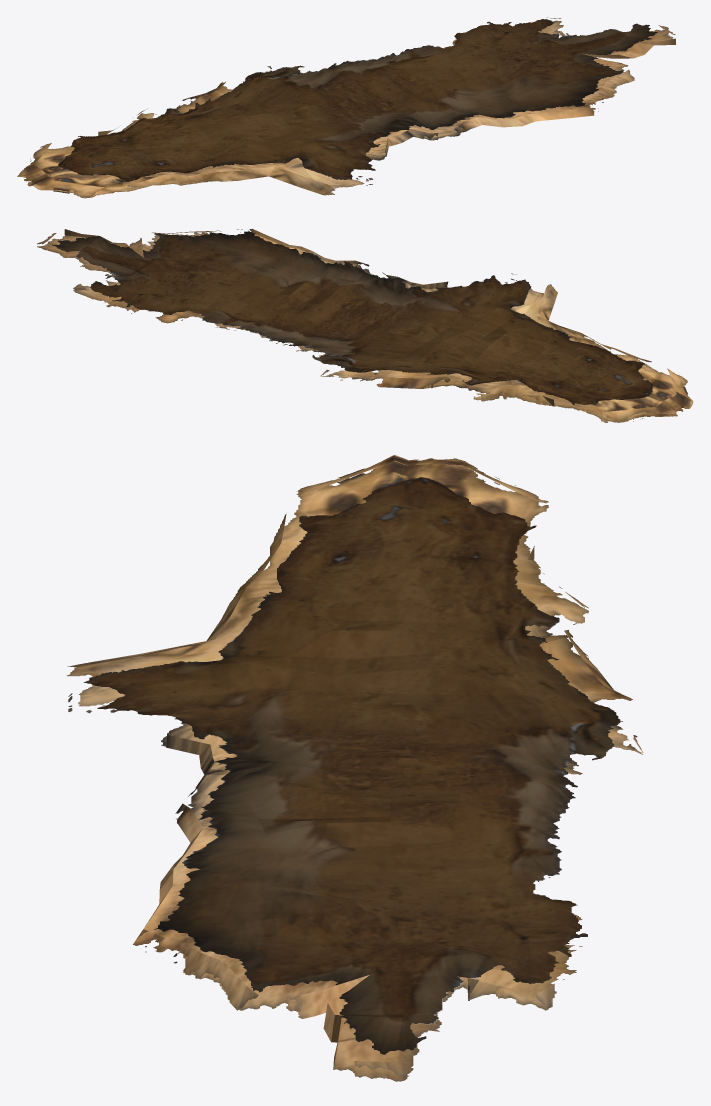
Rendered from Pelt.fbx.
3 renders of one model, top to bottom at view 1: azimuth 30°, elevation 25°; view 2: azimuth 150°, elevation 25°; view 3: azimuth 270°, elevation 25°, orthographic. The views are drawn at different scales.
Visible parts, largest first — view 1: Plane; view 2: Plane; view 3: Plane.
Part boxes in pixels (bbox=[...]): Plane: bbox=[17, 17, 675, 198]; Plane: bbox=[37, 229, 693, 422]; Plane: bbox=[66, 455, 643, 1081].
Size of the model in its own units: 178 by 9.04 by 437.
1 material, 1 textured.
